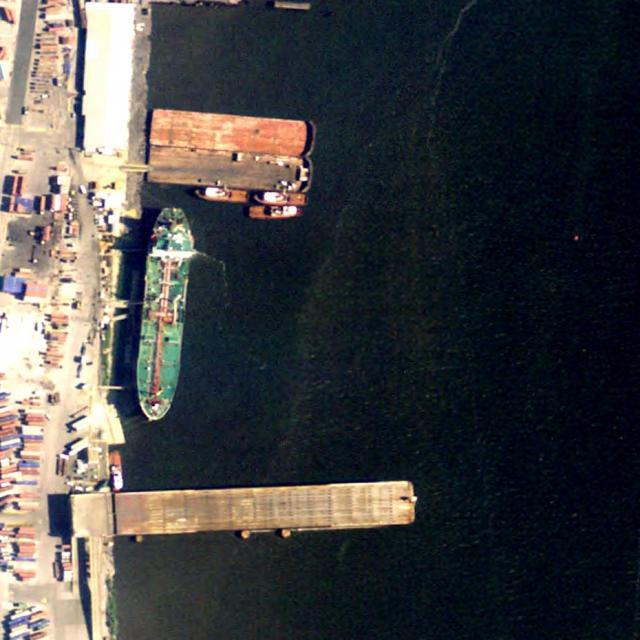Container Ship: (149, 107, 319, 159)
Oil Tanker: (131, 205, 195, 421)
Other Ship: (113, 480, 418, 535), (256, 189, 312, 209), (193, 185, 250, 204), (248, 205, 302, 219), (109, 449, 123, 490)
